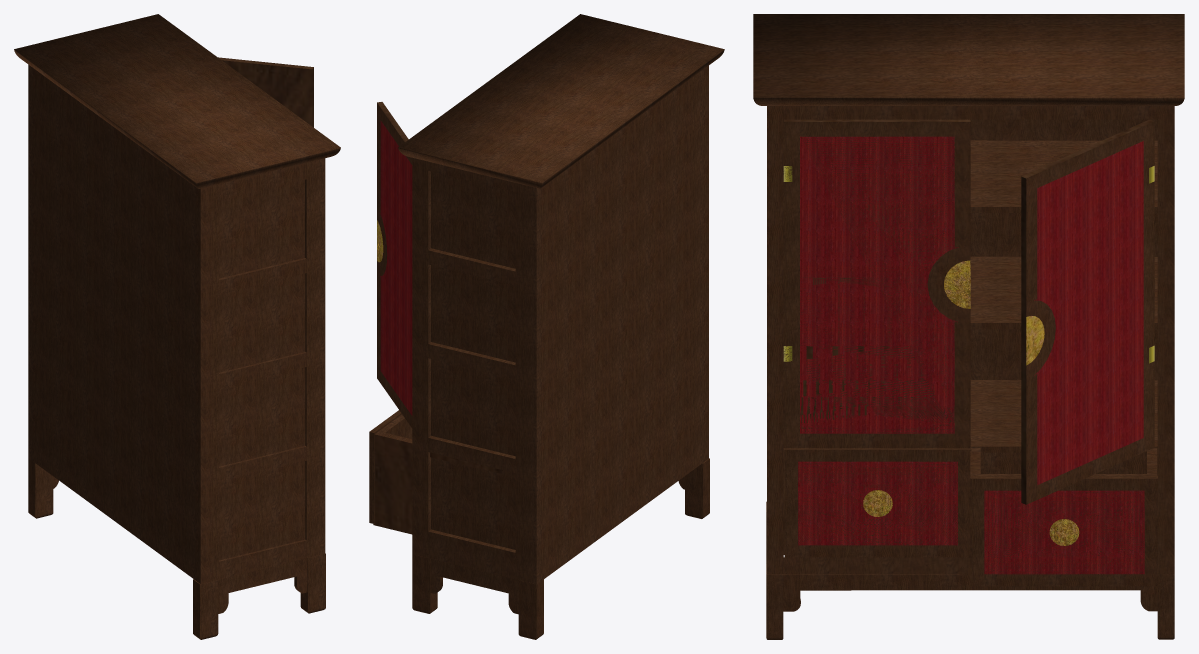
File: Chinese+Cabinet.dae
The picture shows the model from 3 angles, left to right: view 1: azimuth 30°, elevation 25°; view 2: azimuth 150°, elevation 25°; view 3: azimuth 270°, elevation 25°; orthographic projection. The views are drawn at different scales.
Parts seen in each view (by area): view 1: SketchUp (×5), group_1, group_0 (×3), Component_1, Lower_panel; view 2: SketchUp (×6), group_1, Component_1 (×2), group_0 (×3), Full_Drawer_Red, Lower_panel, Small_Door; view 3: Component_1 (×7), Small_Door (×6), group_1, SketchUp (×3), Shelf (×3), group_0 (×2), Full_Drawer_Red (×2).
Boxes of the visible parts, x1=… form: SketchUp (×5): x1=28, y1=64, x2=325, y2=583; group_1: x1=14, y1=14, x2=340, y2=188; group_0 (×3): x1=28, y1=458, x2=325, y2=639; Component_1: x1=218, y1=57, x2=313, y2=127; Lower_panel: x1=218, y1=558, x2=307, y2=613; SketchUp (×6): x1=412, y1=65, x2=708, y2=584; group_1: x1=398, y1=14, x2=724, y2=188; Component_1 (×2): x1=377, y1=103, x2=412, y2=427; group_0 (×3): x1=412, y1=458, x2=709, y2=639; Full_Drawer_Red: x1=373, y1=434, x2=412, y2=534; Lower_panel: x1=430, y1=559, x2=518, y2=614; Small_Door: x1=369, y1=410, x2=401, y2=523; Component_1 (×7): x1=783, y1=119, x2=1154, y2=504; Small_Door (×6): x1=784, y1=447, x2=1157, y2=586; group_1: x1=753, y1=14, x2=1184, y2=105; SketchUp (×3): x1=767, y1=106, x2=1174, y2=611; Shelf (×3): x1=970, y1=140, x2=1157, y2=452; group_0 (×2): x1=766, y1=564, x2=1174, y2=639; Full_Drawer_Red (×2): x1=970, y1=448, x2=1157, y2=478.
Bounding box in the file's own units: 36.82 × 50 × 70.28.
